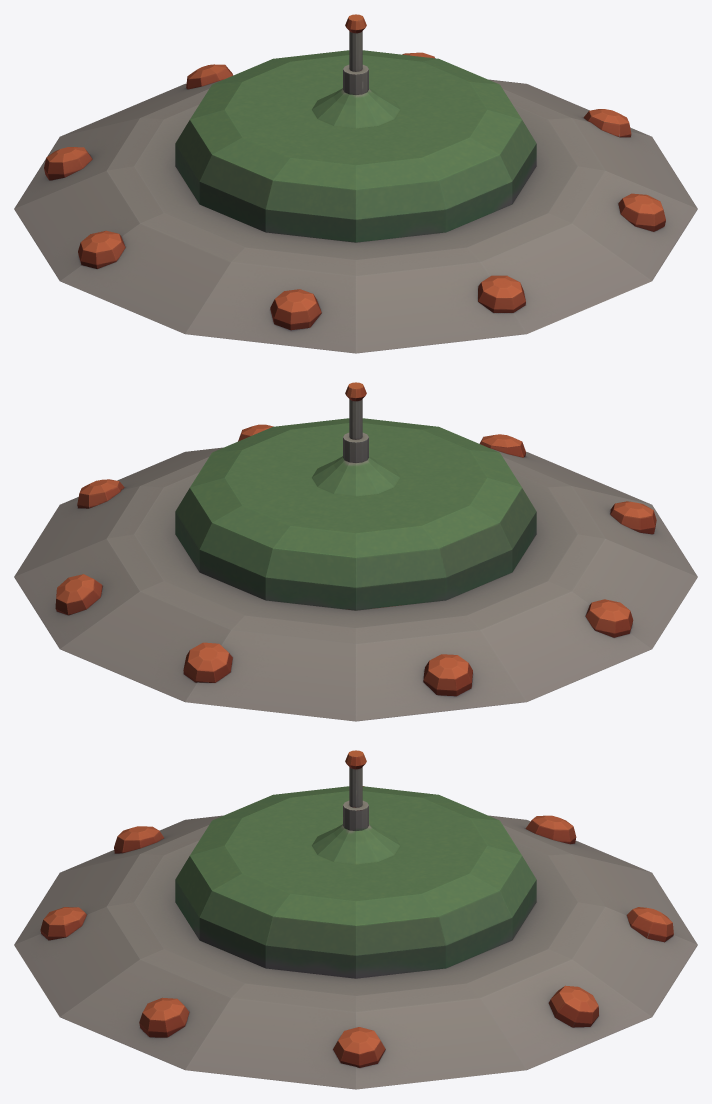
Rendered from UFO.fbx.
The picture shows the model from 3 angles, top to bottom: view 1: azimuth 30°, elevation 25°; view 2: azimuth 150°, elevation 25°; view 3: azimuth 270°, elevation 25°; orthographic projection.
Visible parts, largest first — view 1: Ufo; view 2: Ufo; view 3: Ufo.
Part boxes in pixels (left/top/right/bottom): Ufo: left=14, top=14, right=697, bottom=353; Ufo: left=14, top=382, right=697, bottom=721; Ufo: left=14, top=750, right=697, bottom=1089.
Size of the model in its own units: 387 by 157 by 387.
